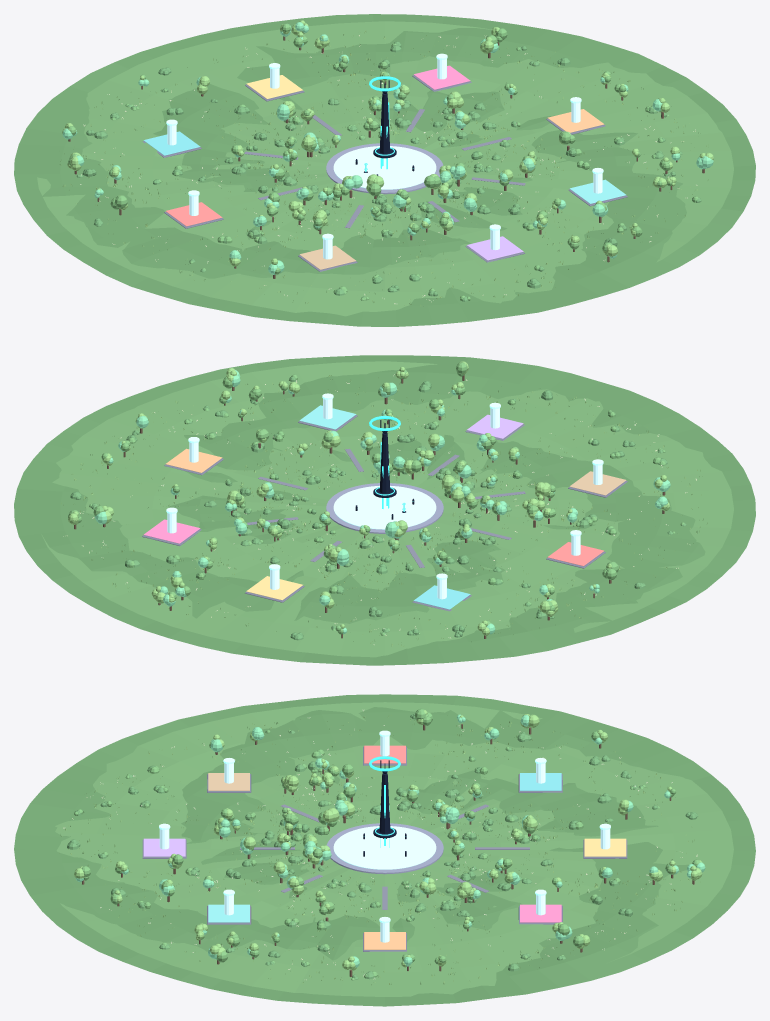
The model's file is lumina_commons_v2.glb.
3 views of the same model, one above another, from view 1: azimuth 30°, elevation 25°; view 2: azimuth 150°, elevation 25°; view 3: azimuth 270°, elevation 25° (orthographic).
Parts seen in each view (by area): view 1: U_lawn, U_plaza, Z00_beacon, G_bush_01, U_tile_top_Z10, U_tile_top_Z09, U_tile_top_Z03, U_tile_top_Z04, U_tile_top_Z08, U_tile_top_Z01, U_tile_top_Z02, U_tile_top_Z05 (+4 smaller); view 2: U_lawn, U_plaza, Z00_beacon, U_tile_top_Z02, U_tile_top_Z09, U_tile_top_Z03, U_tile_top_Z08, U_tile_top_Z10, U_tile_top_Z04, U_tile_top_Z01, G_bush_01, U_tile_top_Z05 (+4 smaller); view 3: U_lawn, U_plaza, Z00_beacon, G_bush_01, U_tile_top_Z01, U_tile_top_Z04, U_tile_top_Z02, U_tile_top_Z05, U_tile_top_Z03, U_tile_top_Z08, U_tile_top_Z10, U_tile_top_Z09 (+4 smaller).
Boxes of the visible parts, box(x1,y1,x2,y2) form: U_lawn: box(14, 14, 755, 326); U_plaza: box(326, 143, 443, 194); Z00_beacon: box(369, 76, 400, 169); G_bush_01: box(130, 100, 540, 288); U_tile_top_Z10: box(143, 131, 200, 155); U_tile_top_Z09: box(166, 202, 222, 226); U_tile_top_Z03: box(547, 109, 604, 132); U_tile_top_Z04: box(569, 179, 625, 203); U_tile_top_Z08: box(299, 245, 355, 269); U_tile_top_Z01: box(246, 75, 302, 98); U_tile_top_Z02: box(414, 65, 470, 89); U_tile_top_Z05: box(467, 236, 523, 260); U_lawn: box(14, 355, 755, 665); U_plaza: box(326, 483, 443, 533); Z00_beacon: box(369, 416, 400, 508); U_tile_top_Z02: box(143, 519, 200, 543); U_tile_top_Z09: box(547, 542, 603, 566); U_tile_top_Z03: box(166, 448, 222, 472); U_tile_top_Z08: box(569, 471, 626, 495); U_tile_top_Z10: box(413, 585, 470, 609); U_tile_top_Z04: box(299, 405, 356, 429); U_tile_top_Z01: box(246, 576, 302, 600); G_bush_01: box(240, 390, 552, 632); U_tile_top_Z05: box(467, 414, 523, 438); U_lawn: box(14, 694, 755, 1006); U_plaza: box(326, 823, 443, 874); Z00_beacon: box(369, 756, 400, 847); G_bush_01: box(67, 785, 637, 912); U_tile_top_Z01: box(584, 838, 626, 856); U_tile_top_Z04: box(208, 904, 249, 922); U_tile_top_Z02: box(520, 904, 561, 922); U_tile_top_Z05: box(143, 838, 185, 856); U_tile_top_Z03: box(364, 932, 405, 949); U_tile_top_Z08: box(208, 773, 249, 790); U_tile_top_Z10: box(520, 773, 561, 790); U_tile_top_Z09: box(364, 745, 405, 763).
Size of the model in its own units: 202 by 28.55 by 202.
